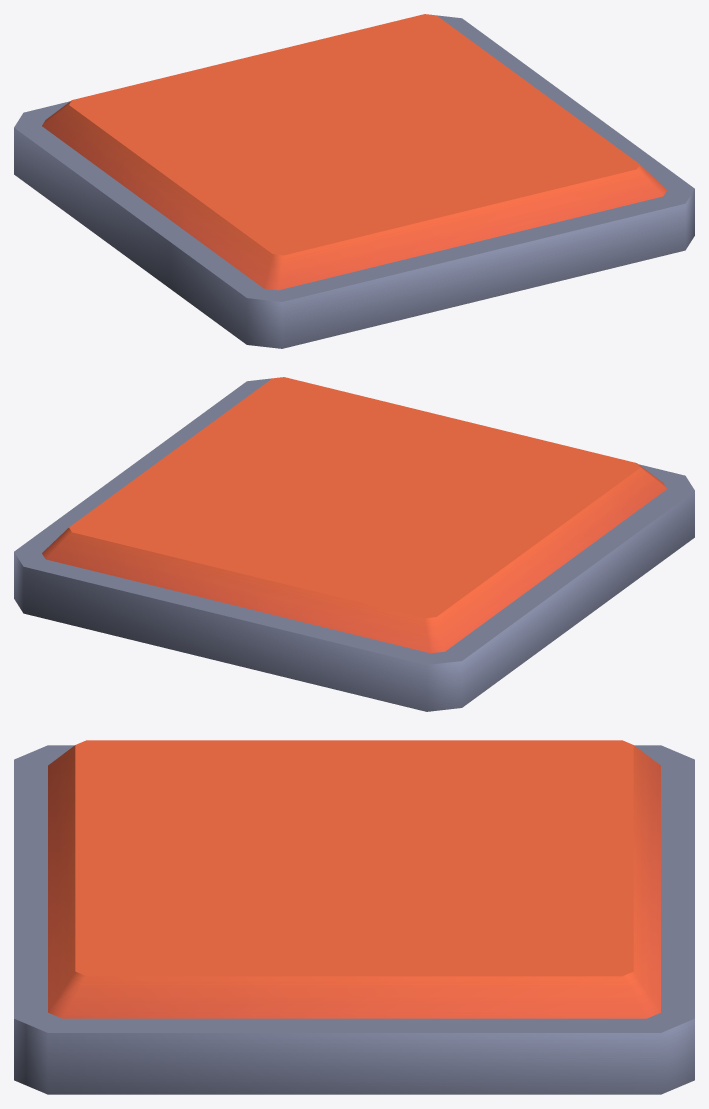
The model's file is button-floor-square.fbx.
3 renders of one model, top to bottom at view 1: azimuth 30°, elevation 25°; view 2: azimuth 150°, elevation 25°; view 3: azimuth 270°, elevation 25°, orthographic. The views are drawn at different scales.
Parts seen in each view (by area): view 1: button, button-floor-square; view 2: button, button-floor-square; view 3: button, button-floor-square.
Boxes of the visible parts, <box> form: button: <box>42,14,666,290</box>; button-floor-square: <box>14,15,694,348</box>; button: <box>42,377,666,653</box>; button-floor-square: <box>14,378,694,711</box>; button: <box>48,740,660,1018</box>; button-floor-square: <box>14,745,694,1094</box>.
Size of the model in its own units: 100 by 15 by 100.
